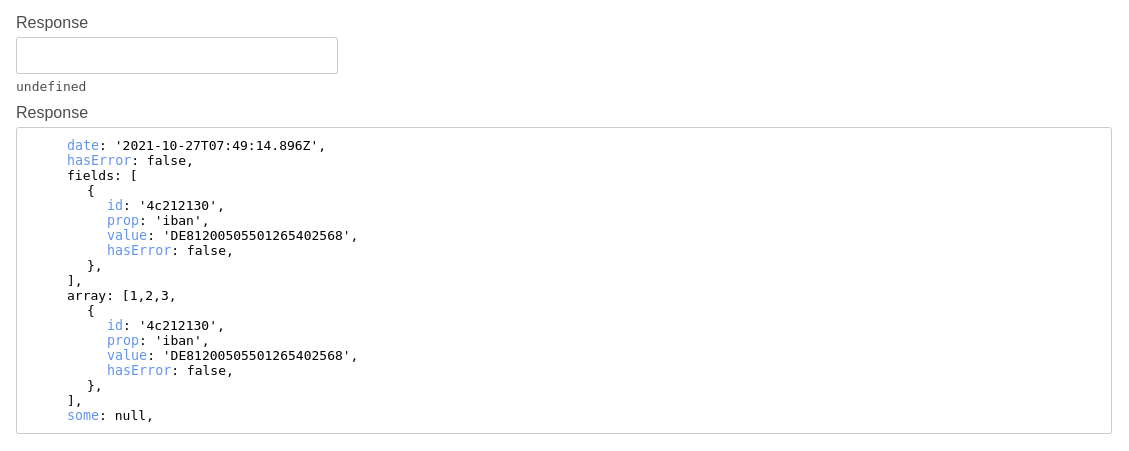
Test: renders the expected elements on the page › displays the correct value for a given key on text input
Note: Boolean response
Step 1. Type "res.hasError" into the field with test id "input-field" → (177, 56), box [16,37,338,74]
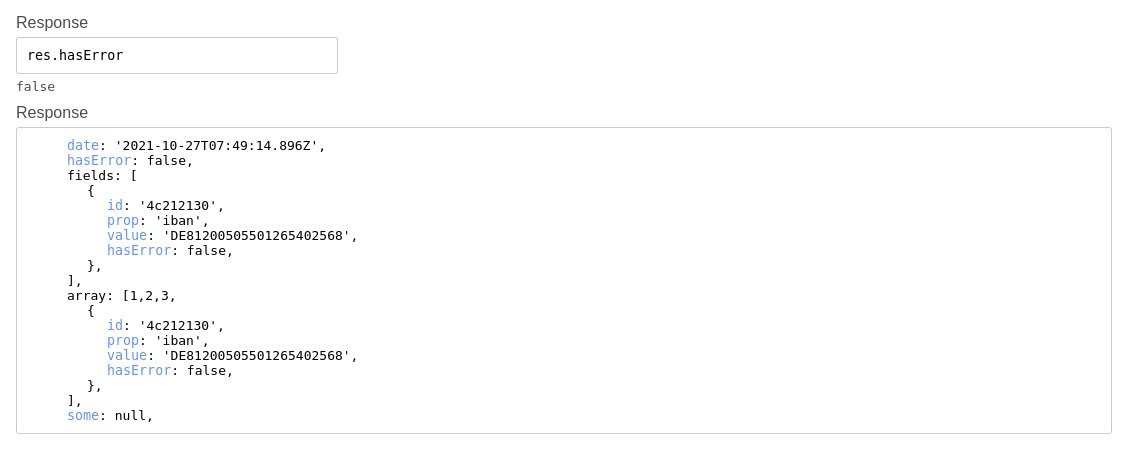
Expected: the text "false" is shown, [16,79,55,94]
Note: Empty field
Step 2. Clear the field with test id "input-field" → (177, 56), box [16,37,338,74]
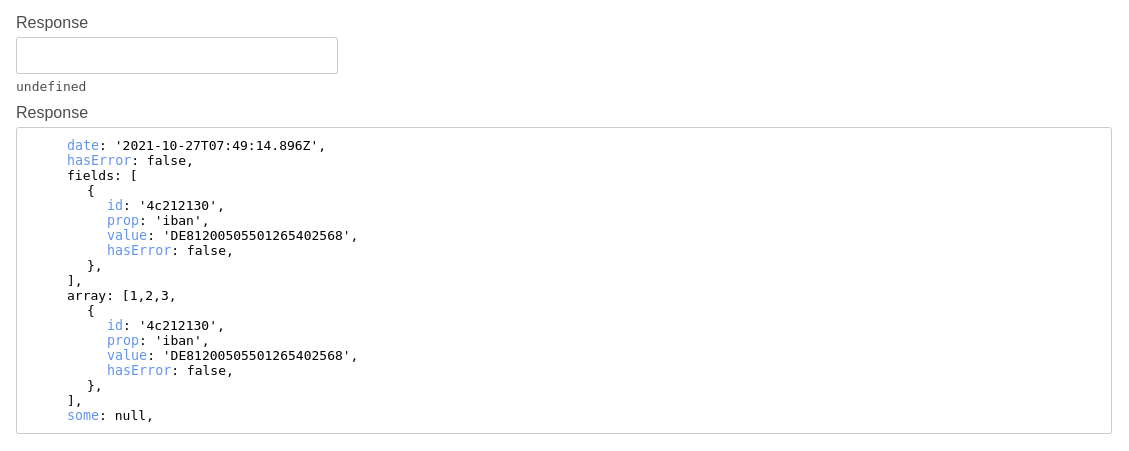
Expected: the text with test id "property-response-field" reads "undefined", [16,79,86,94]
Note: Nested objects properties
Step 3. Type "res.fields[0].prop" into the field with test id "input-field" → (177, 56), box [16,37,338,74]
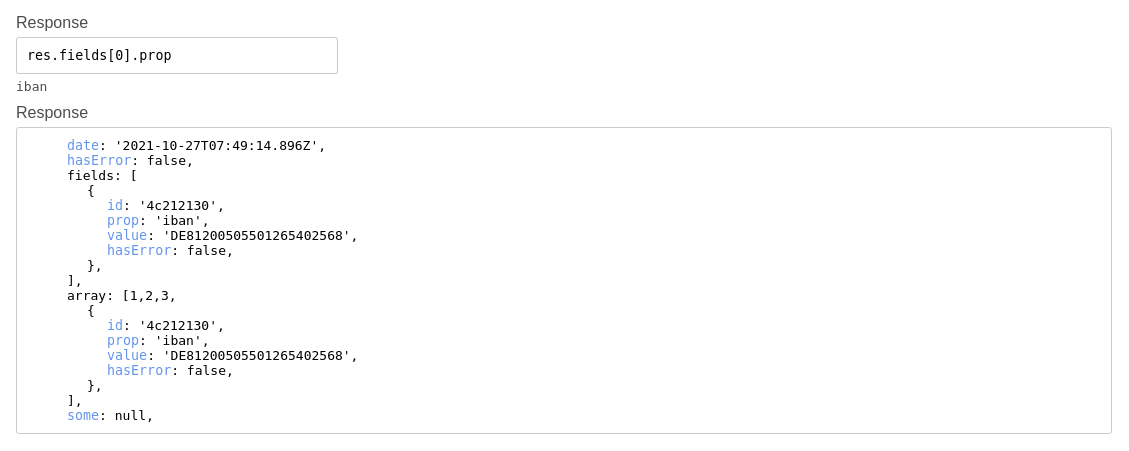
Expected: the text with test id "property-response-field" reads "iban", [16,79,47,94]
Note: Unknown property
Step 4. Replace the text in the field with test id "input-field" with "res.fields[1].prop" → (177, 56), box [16,37,338,74]
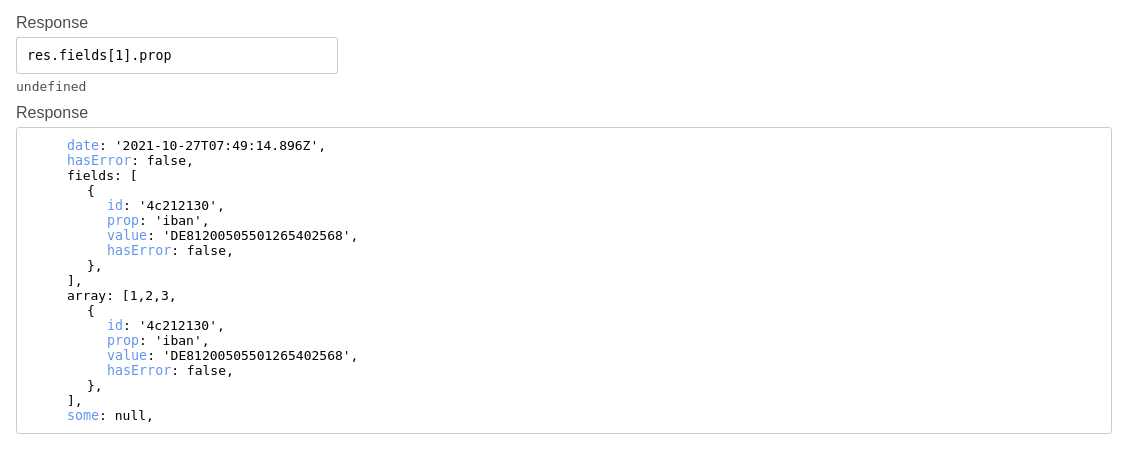
Expected: the text with test id "property-response-field" reads "undefined", [16,79,86,94]
